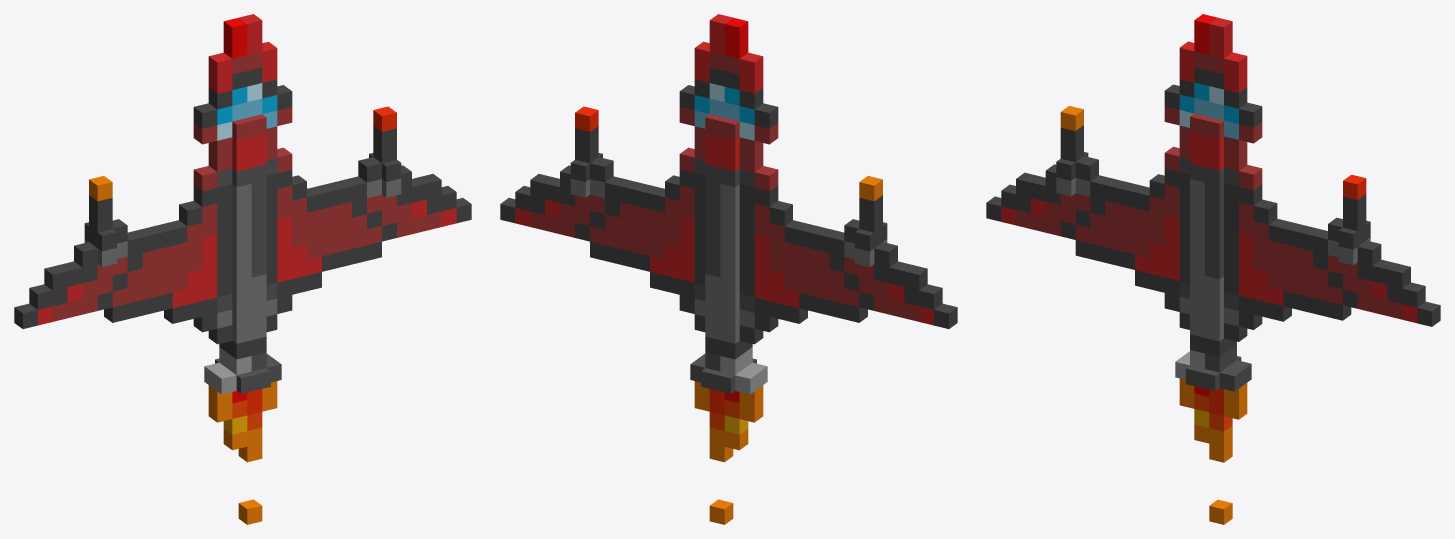
The picture shows the model from 3 angles, left to right: view 1: azimuth 30°, elevation 25°; view 2: azimuth 150°, elevation 25°; view 3: azimuth 330°, elevation 25°; orthographic projection.
Visible parts, largest first — view 1: generated; view 2: generated; view 3: generated.
Boxes of the visible parts, <box> form: generated: <box>14,14,471,524</box>; generated: <box>500,14,957,524</box>; generated: <box>986,14,1440,524</box>.
Bounding box in the file's own units: 30 × 32 × 3.
